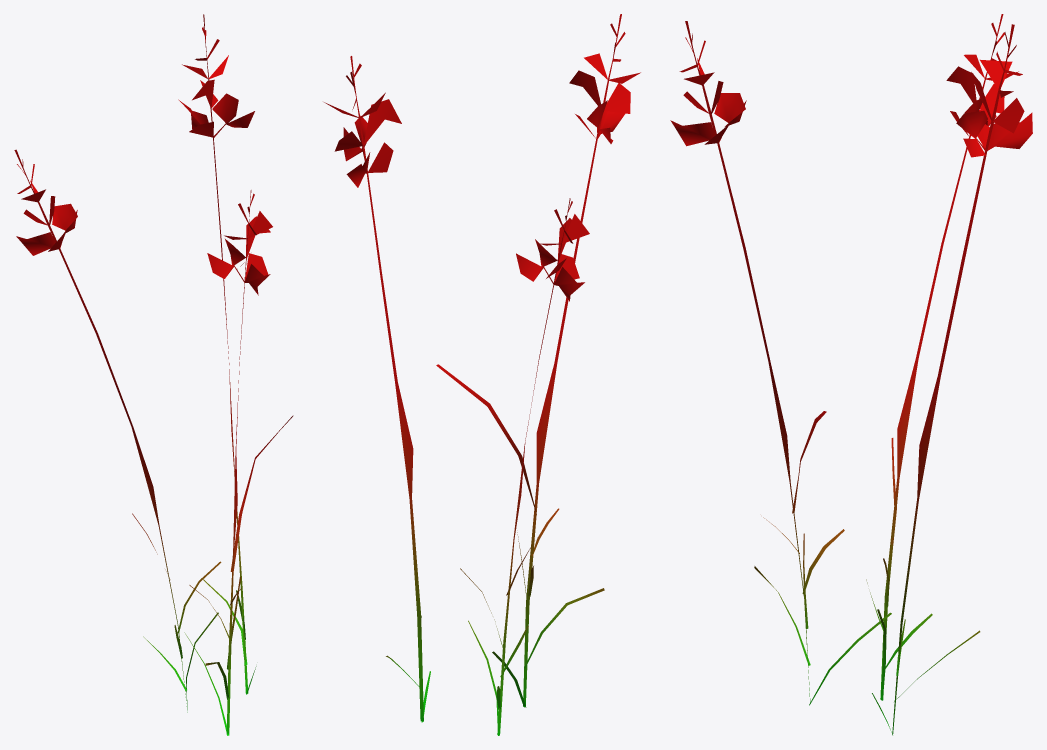
The model's file is Tundra Grass_LOD4_Var9_wk2oaeyqx.fbx.
3 views of the same model, side by side, from view 1: azimuth 30°, elevation 25°; view 2: azimuth 150°, elevation 25°; view 3: azimuth 270°, elevation 25° (orthographic). The views are drawn at different scales.
Visible parts, largest first — view 1: _uvrc_Var9_LOD4; view 2: _uvrc_Var9_LOD4; view 3: _uvrc_Var9_LOD4.
Boxes of the visible parts, bbox=[...] form: _uvrc_Var9_LOD4: bbox=[14, 14, 293, 735]; _uvrc_Var9_LOD4: bbox=[324, 14, 640, 735]; _uvrc_Var9_LOD4: bbox=[670, 14, 1032, 735].
Size of the model in its own units: 26.66 by 71 by 32.53.
